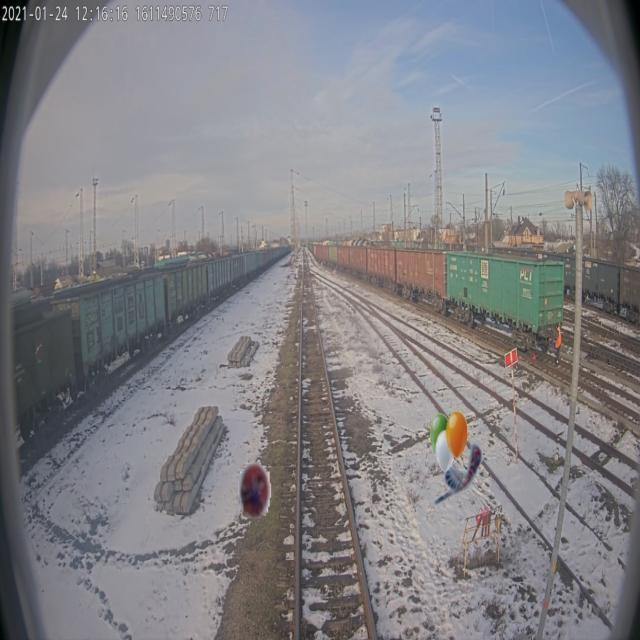balloon: (430, 410, 468, 474)
floating object: (431, 442, 483, 506), (238, 454, 271, 518)
